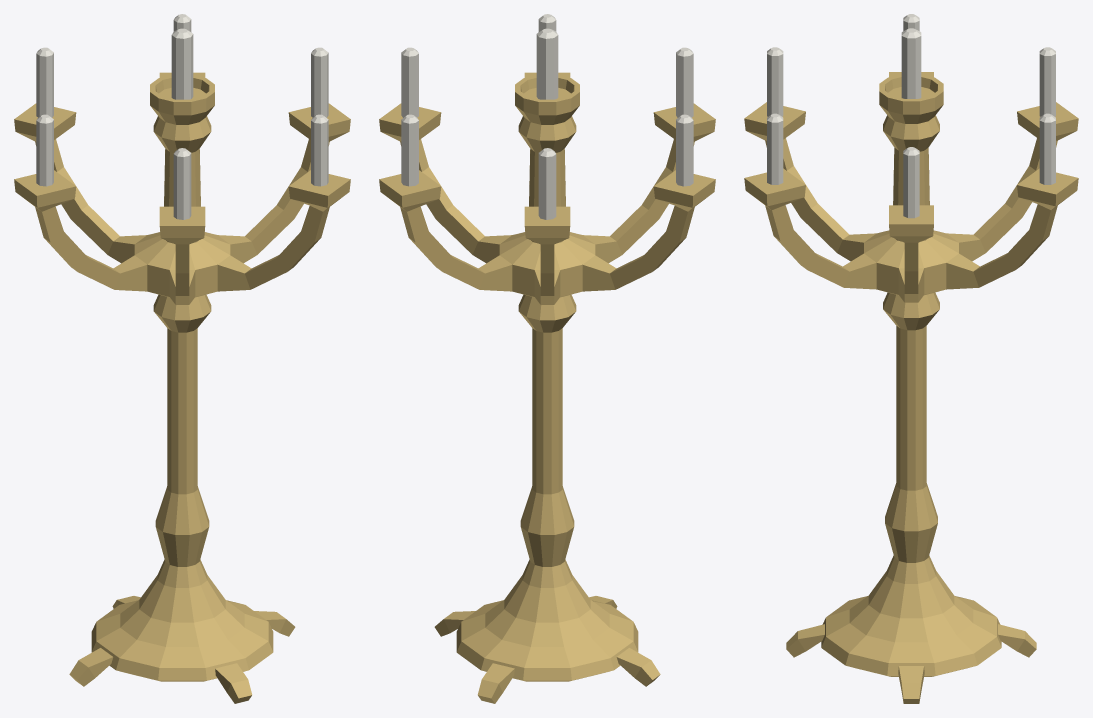
The model's file is candelabrofinal.fbx.
The picture shows the model from 3 angles, left to right: view 1: azimuth 30°, elevation 25°; view 2: azimuth 150°, elevation 25°; view 3: azimuth 270°, elevation 25°; orthographic projection.
Parts seen in each view (by area): view 1: candelabro, velas; view 2: candelabro, velas; view 3: candelabro, velas.
Part boxes in pixels (<box>): candelabro: <box>14,72,350,703</box>; velas: <box>36,14,328,219</box>; candelabro: <box>379,72,715,703</box>; velas: <box>401,14,693,219</box>; candelabro: <box>744,72,1078,703</box>; velas: <box>767,14,1055,218</box>.
Bounding box in the file's own units: 36.6 × 69.96 × 34.
